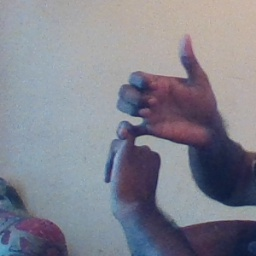S: (100, 30, 223, 197)
